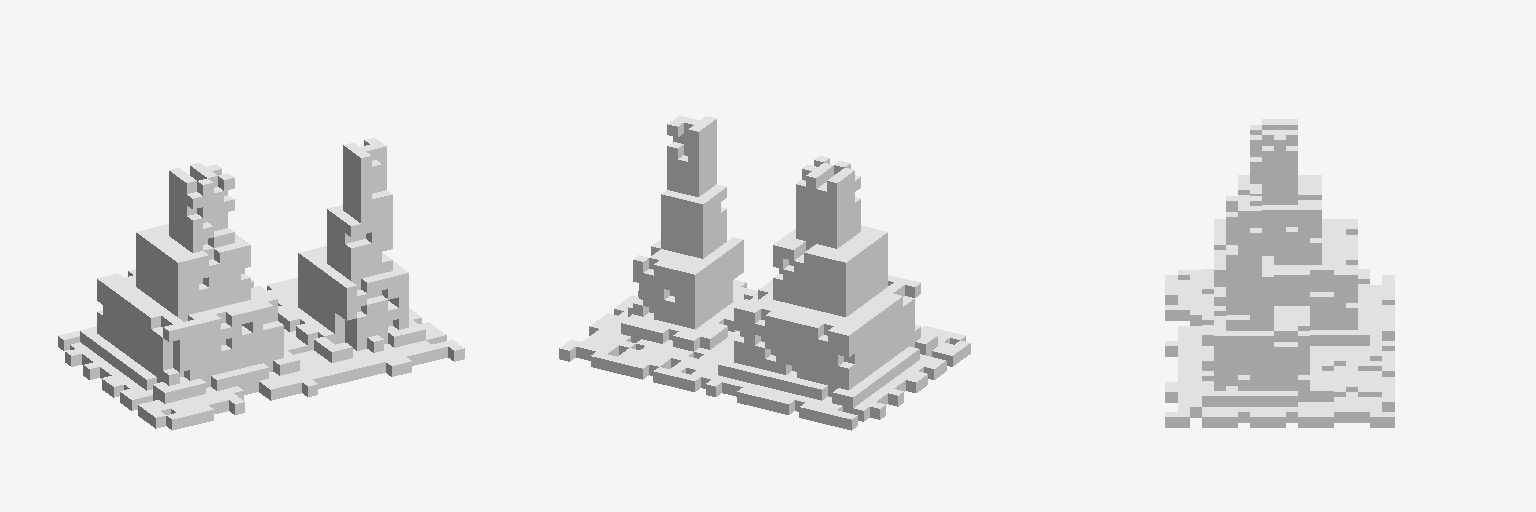
The model's file is skaly_wulkan.obj.
The picture shows the model from 3 angles: view 1: azimuth 30°, elevation 25°; view 2: azimuth 150°, elevation 25°; view 3: azimuth 270°, elevation 25°; orthographic projection.
Parts seen in each view (by area): view 1: object 1; view 2: object 1; view 3: object 1.
Part boxes in pixels (x1,y1,x2,y2): object 1: (58,138,464,430); object 1: (559,115,970,430); object 1: (1165,119,1394,427).
Bounding box in the file's own units: 2.9 × 1.8 × 1.9.